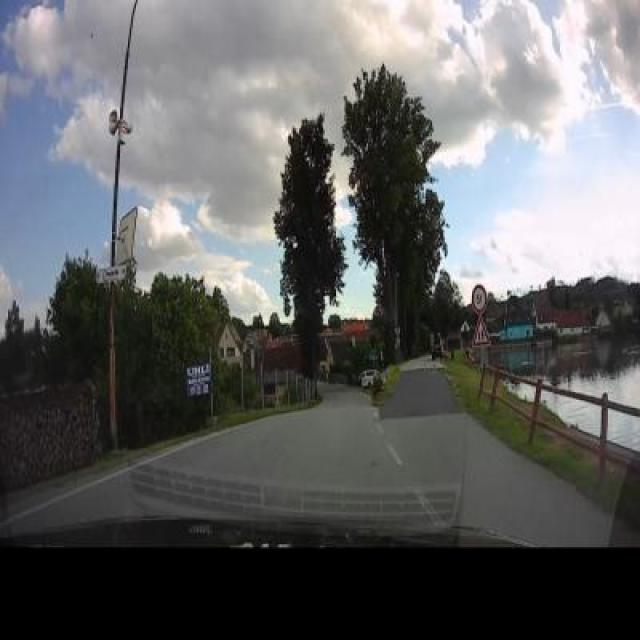clear-road: (159, 368, 614, 547)
